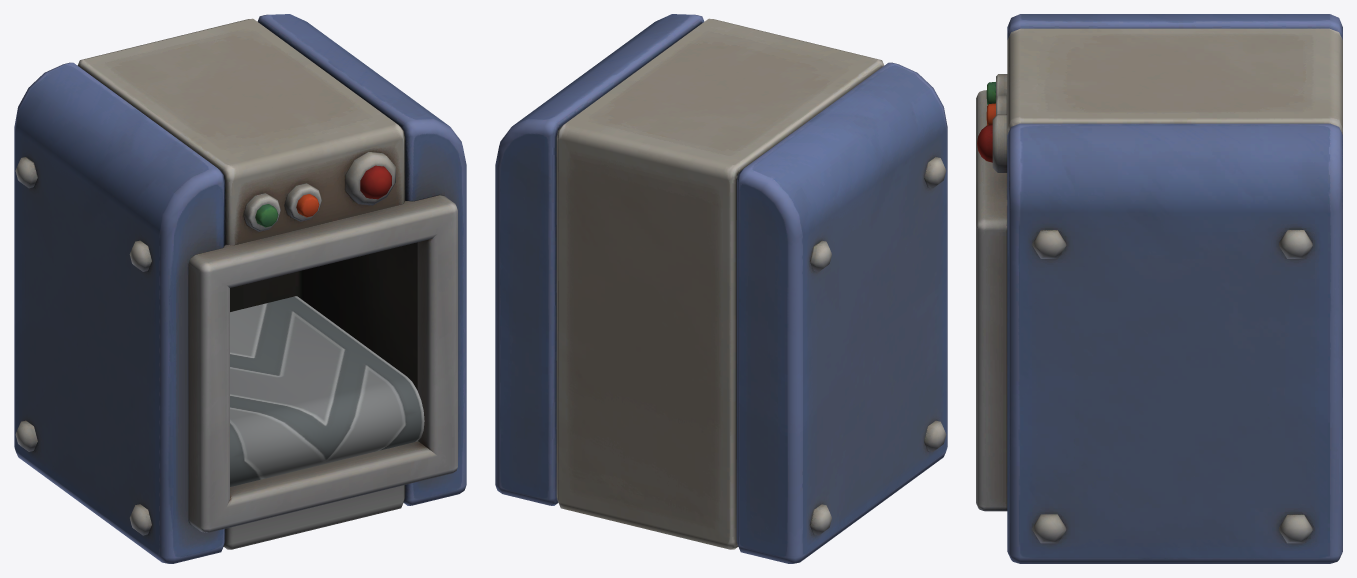
The model's file is Dispenser.fbx.
The picture shows the model from 3 angles, left to right: view 1: azimuth 30°, elevation 25°; view 2: azimuth 150°, elevation 25°; view 3: azimuth 270°, elevation 25°; orthographic projection. The views are drawn at different scales.
Visible parts, largest first — view 1: m_sk_dispenser_01; view 2: m_sk_dispenser_01; view 3: m_sk_dispenser_01.
Boxes of the visible parts, x1,y1,x2,y2 form: m_sk_dispenser_01: (14, 14, 466, 563); m_sk_dispenser_01: (495, 14, 947, 563); m_sk_dispenser_01: (976, 14, 1342, 563).
Bounding box in the file's own units: 137 × 153 × 122.
